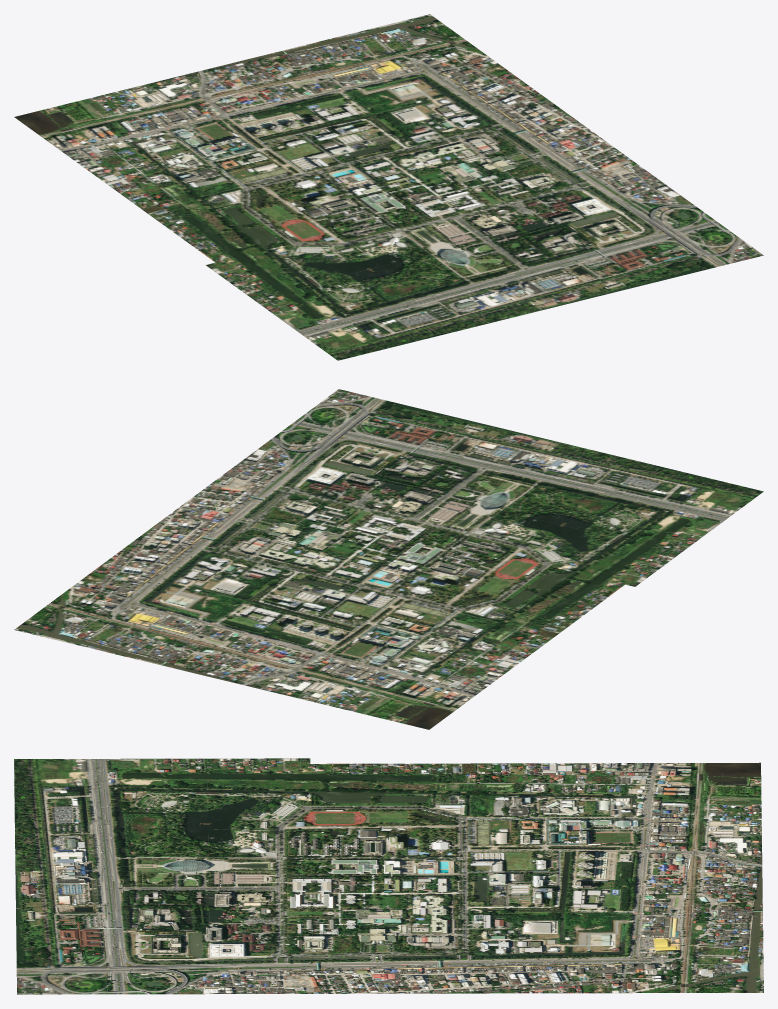
The model's file is mu-basemap-00.glb.
3 renders of one model, top to bottom at view 1: azimuth 30°, elevation 25°; view 2: azimuth 150°, elevation 25°; view 3: azimuth 270°, elevation 25°, orthographic. The views are drawn at different scales.
Visible parts, largest first — view 1: basemap_static; view 2: basemap_static; view 3: basemap_static.
Boxes of the visible parts, box(x1,y1,x2,y2) form: basemap_static: box(14, 14, 763, 360); basemap_static: box(14, 389, 763, 729); basemap_static: box(14, 758, 763, 994).
Size of the model in its own units: 1601 by 0 by 2148.
Materials: 48 (48 with a texture image).
